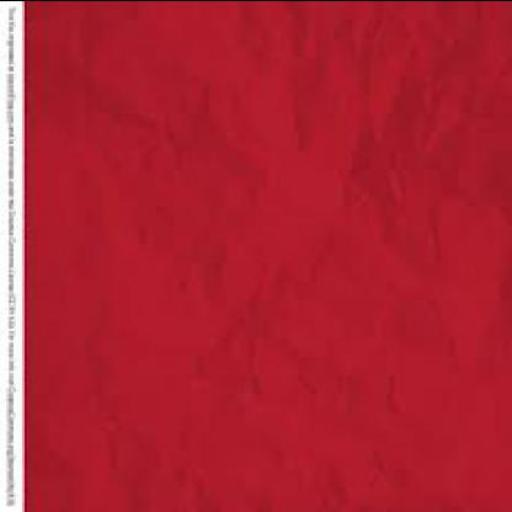paper: (28, 1, 511, 511)
